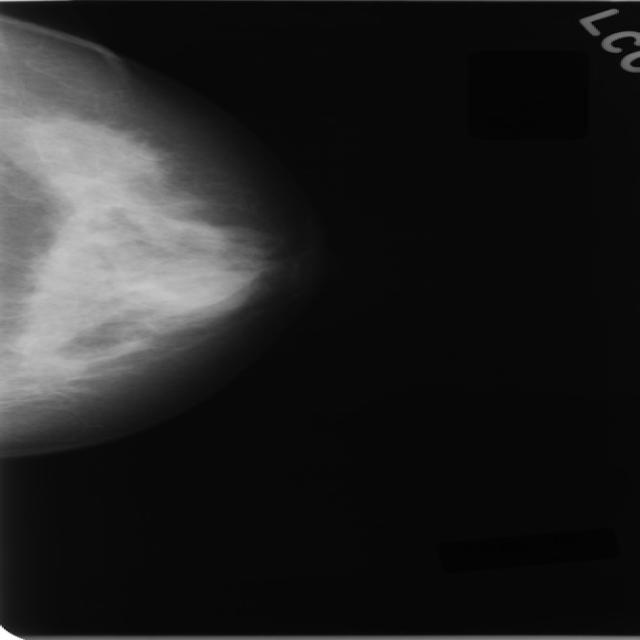tumour: (153, 268, 253, 307)
